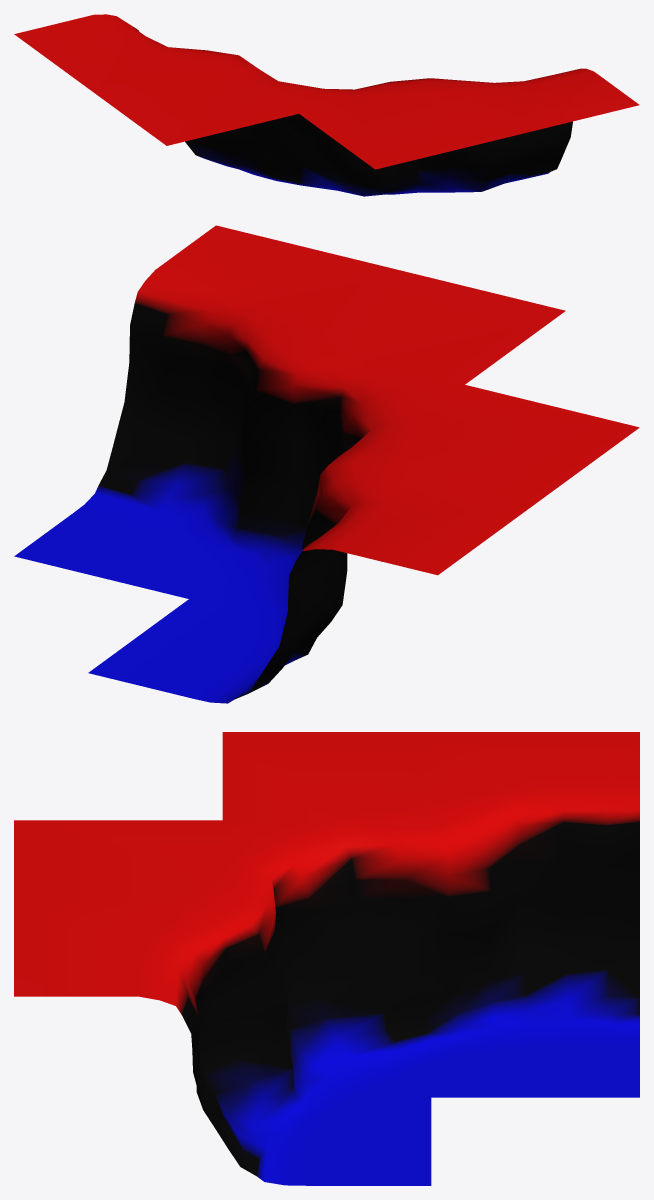
The model's file is RiveCliff06B Background.fbx.
3 views of the same model, one above another, from view 1: azimuth 30°, elevation 25°; view 2: azimuth 150°, elevation 25°; view 3: azimuth 270°, elevation 25° (orthographic). The views are drawn at different scales.
Parts seen in each view (by area): view 1: RiveCliff06B Background; view 2: RiveCliff06B Background; view 3: RiveCliff06B Background.
Part boxes in pixels (box(x1,y1,x2,y2)): RiveCliff06B Background: box(14, 14, 639, 196); RiveCliff06B Background: box(14, 225, 639, 703); RiveCliff06B Background: box(14, 732, 639, 1185).
Size of the model in its own units: 3 by 1 by 3.
